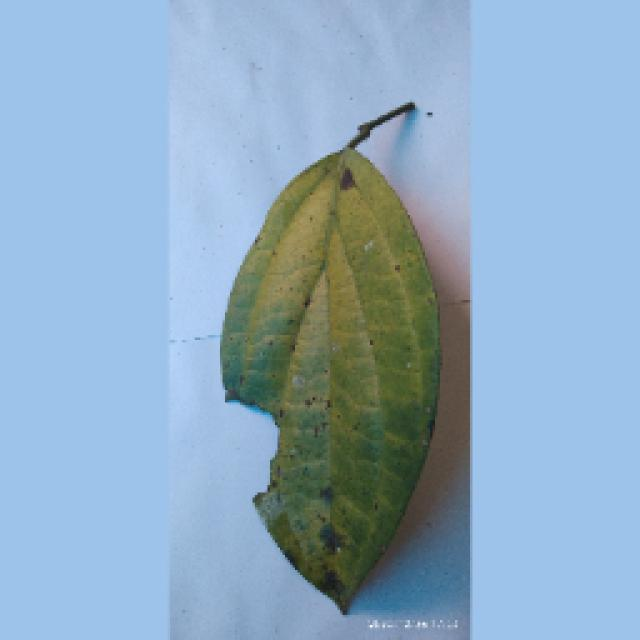slow-decline: (213, 117, 445, 615)
